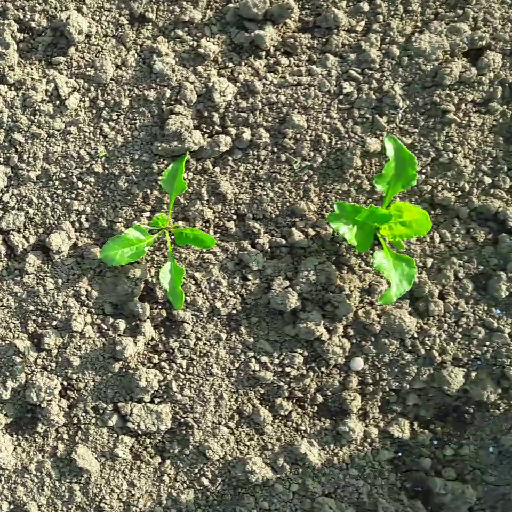sugarbeet: (95, 153, 216, 313), (322, 133, 433, 306)
